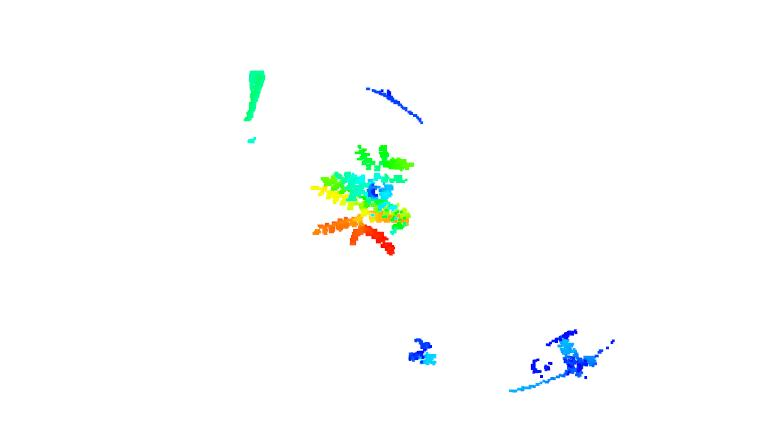chickpea: (308, 141, 412, 258)
